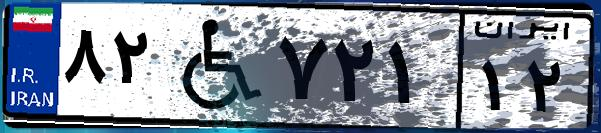1: (385, 28, 445, 110), (475, 38, 525, 113)
2: (330, 28, 385, 110), (525, 38, 570, 115), (110, 28, 158, 98)
7: (270, 28, 330, 110)
8: (57, 26, 110, 100)
ژ (معلولین و جانبازان): (158, 12, 270, 120)
